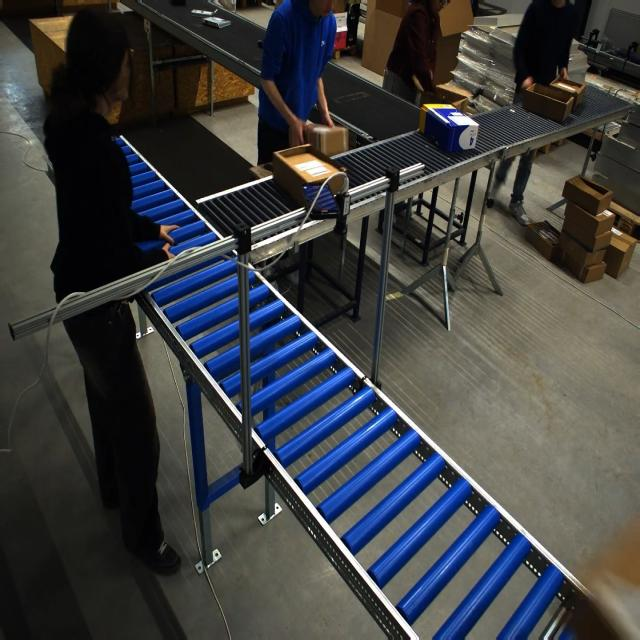box: (271, 143, 343, 207), (421, 103, 482, 153), (304, 124, 345, 158)
product: (201, 16, 231, 28), (190, 9, 215, 17)
